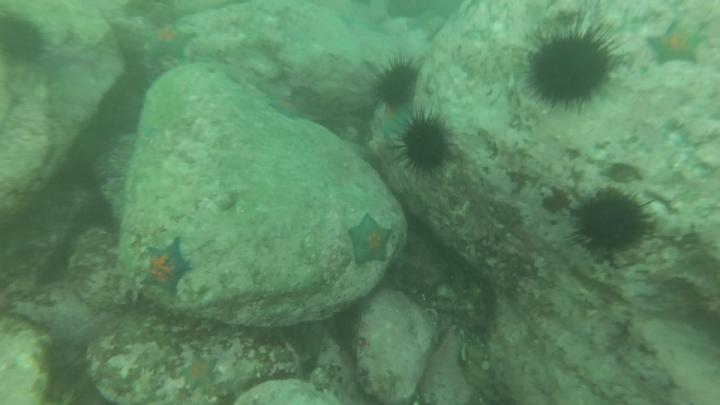echinus: (518, 20, 632, 118), (562, 182, 658, 269), (390, 112, 460, 184), (1, 13, 54, 68), (374, 56, 422, 113)
starfish: (139, 237, 194, 300), (645, 20, 705, 69), (346, 213, 395, 272), (140, 22, 198, 68), (178, 353, 222, 394), (374, 103, 417, 141), (264, 94, 310, 124)
